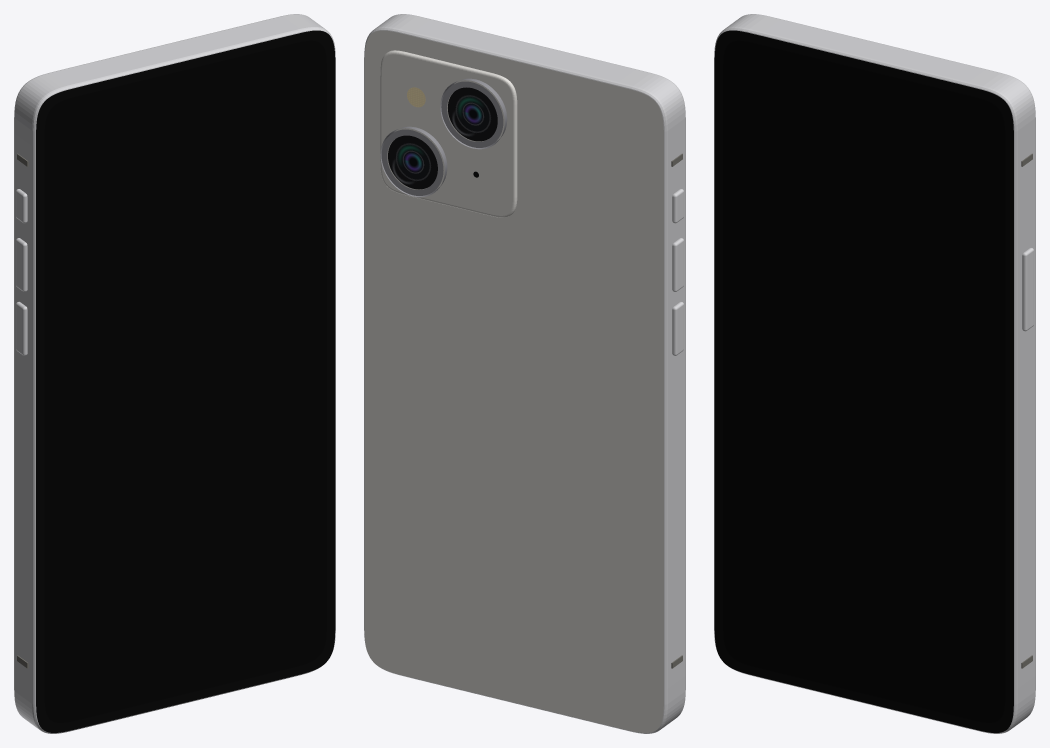
File: demo-compact.glb
3 views of the same model, side by side, from view 1: azimuth 30°, elevation 25°; view 2: azimuth 150°, elevation 25°; view 3: azimuth 330°, elevation 25° (orthographic).
Visible parts, largest first — view 1: Screen, Frame, FrontGlass, Island, Button_VolumeDown, Button_VolumeUp; view 2: BackGlass, Frame, CameraPlateau, Lens0_Glass, Lens1_Glass, Lens0_Lip, Lens1_Lip, Button_VolumeDown, Button_VolumeUp; view 3: Screen, Frame, FrontGlass, Island, Button_Side.
Boxes of the visible parts, x1,y1,x2,y2 form: Screen: [44, 40, 326, 722]; Frame: [14, 14, 335, 733]; FrontGlass: [36, 30, 335, 732]; Island: [156, 72, 215, 101]; Button_VolumeDown: [16, 301, 27, 355]; Button_VolumeUp: [16, 238, 27, 291]; BackGlass: [364, 30, 663, 732]; Frame: [364, 14, 685, 733]; CameraPlateau: [380, 50, 517, 217]; Lens0_Glass: [448, 87, 497, 141]; Lens1_Glass: [388, 135, 437, 189]; Lens0_Lip: [441, 81, 503, 147]; Lens1_Lip: [381, 129, 443, 195]; Button_VolumeDown: [672, 301, 683, 355]; Button_VolumeUp: [672, 238, 683, 291]; Screen: [723, 40, 1005, 722]; Frame: [714, 14, 1035, 733]; FrontGlass: [714, 30, 1013, 732]; Island: [834, 72, 893, 101]; Button_Side: [1022, 247, 1033, 331].
Size of the model in its own units: 0.0664 by 0.1318 by 0.0105.
13 materials, 2 textured.
